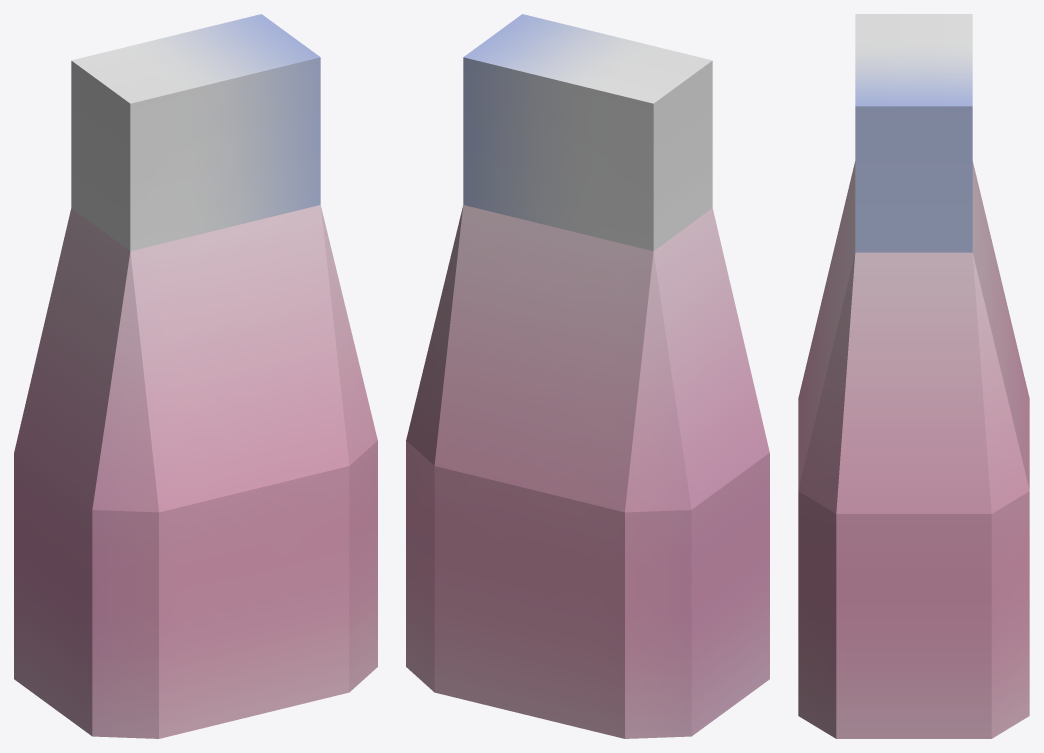
File: giftgoods107b.fbx
3 views of the same model, side by side, from view 1: azimuth 30°, elevation 25°; view 2: azimuth 150°, elevation 25°; view 3: azimuth 270°, elevation 25° (orthographic).
Visible parts, largest first — view 1: giftgoods107b; view 2: giftgoods107b; view 3: giftgoods107b.
Boxes of the visible parts, left/top/right/bottom form: giftgoods107b: left=14, top=14, right=377, bottom=738; giftgoods107b: left=406, top=14, right=769, bottom=738; giftgoods107b: left=798, top=14, right=1029, bottom=738.
Size of the model in its own units: 0.0443 by 0.0911 by 0.0313.
